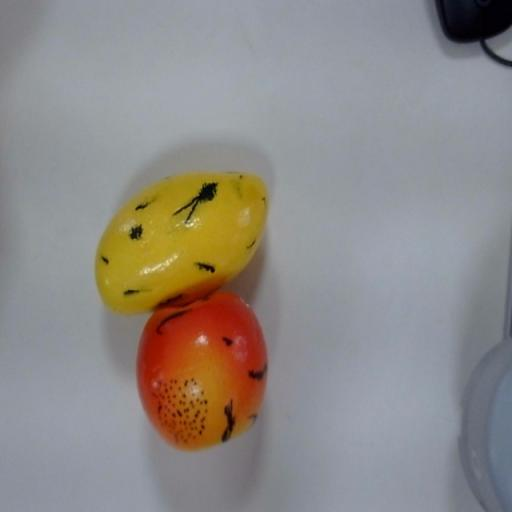Defective: (87, 141, 299, 315), (129, 310, 280, 452)
